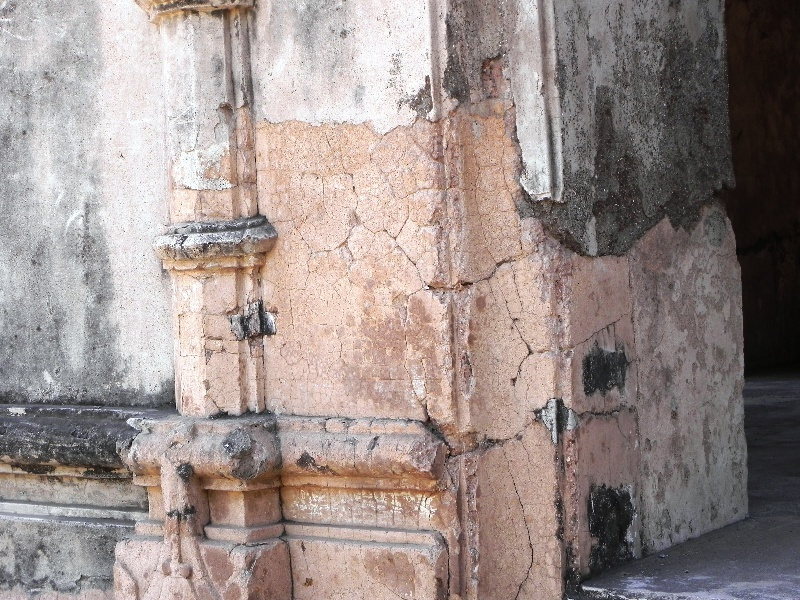Crack: (518, 190, 640, 271)
